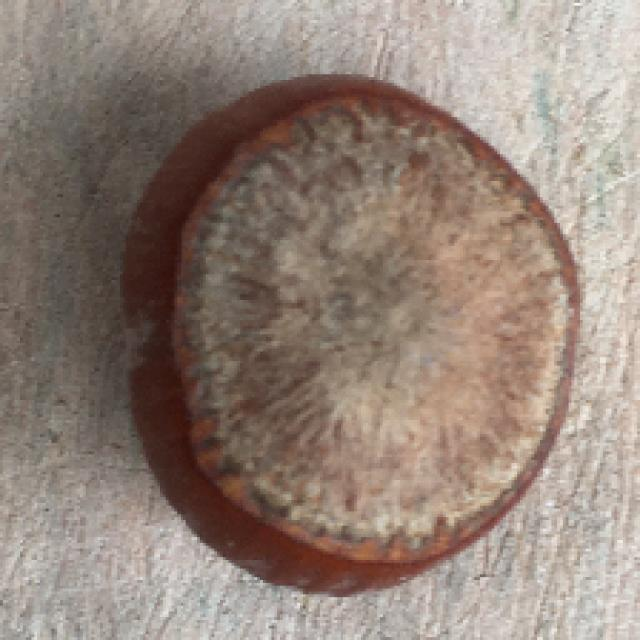qualityHazelnut: (122, 68, 581, 594)
